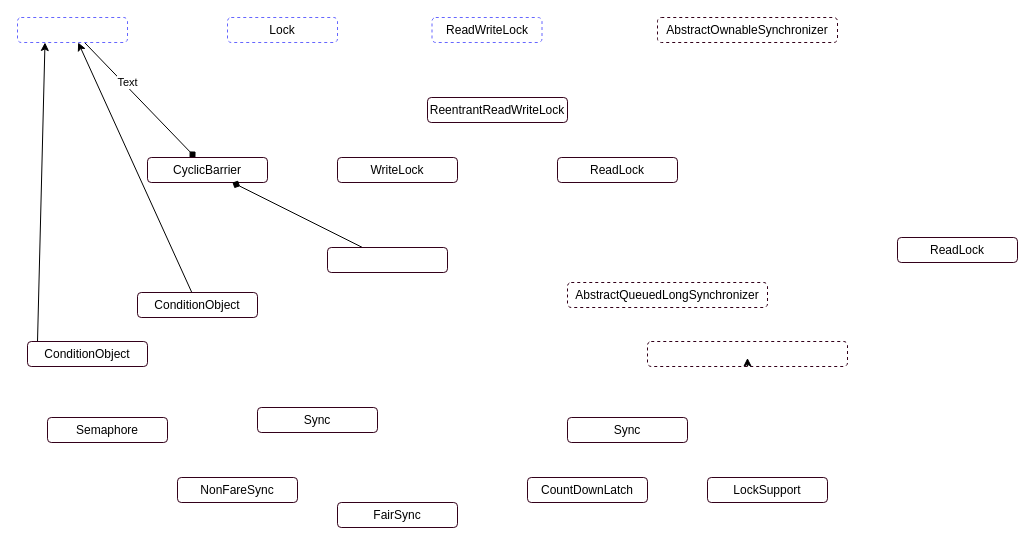
The diagram is 1035 pixels wide and 545 high, and some of its shapes have lost their labels. The centre of each missing label's shape, as x and y in pixels:
"AbstractQueuedSynchronizer" goes at pixel 747 353.
"Condition" goes at pixel 72 29.
"ReentrantLock" goes at pixel 387 259.
